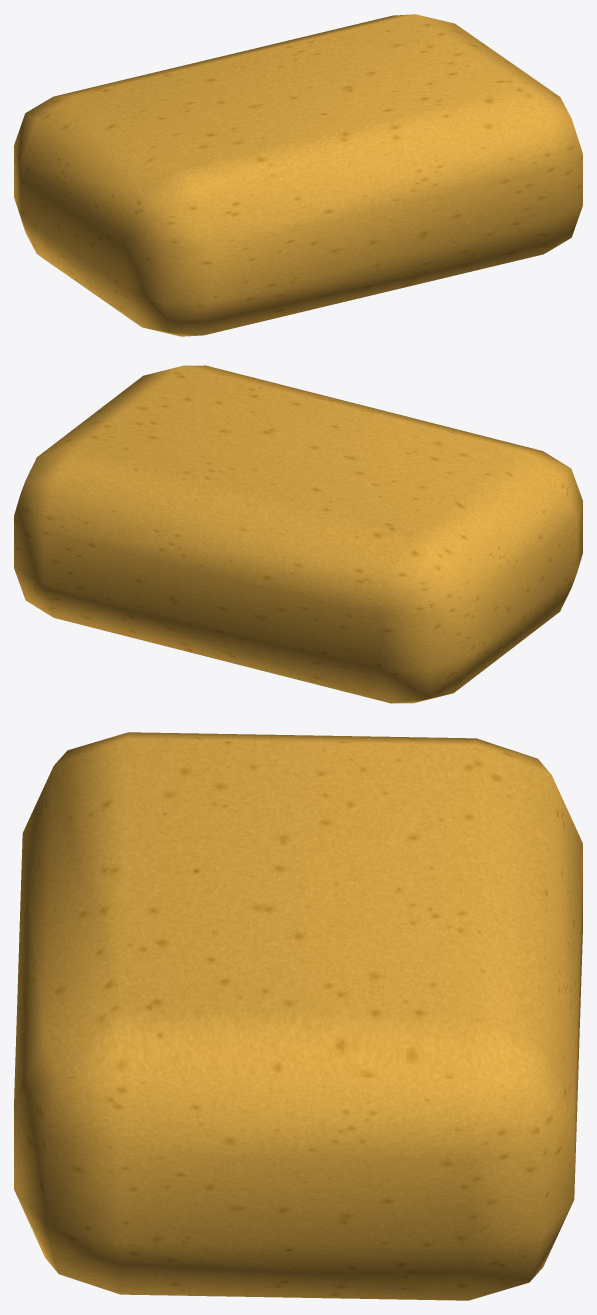
File: Sponge.fbx
3 views of the same model, one above another, from view 1: azimuth 30°, elevation 25°; view 2: azimuth 150°, elevation 25°; view 3: azimuth 270°, elevation 25° (orthographic). The views are drawn at different scales.
Parts seen in each view (by area): view 1: Sponge_Mesh; view 2: Sponge_Mesh; view 3: Sponge_Mesh.
Boxes of the visible parts, x1,y1,x2,y2 form: Sponge_Mesh: (14, 14, 582, 336); Sponge_Mesh: (14, 365, 582, 703); Sponge_Mesh: (14, 732, 582, 1300).
Size of the model in its own units: 0.145 by 0.0536 by 0.0965.
Materials: 1 (1 with a texture image).
